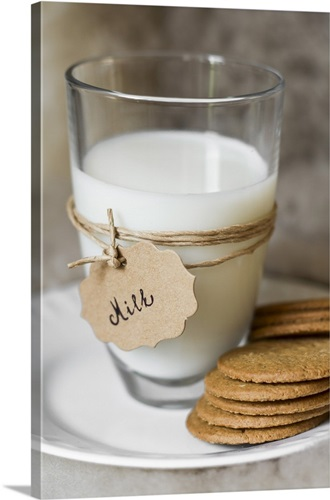glass of milk: (72, 61, 269, 401)
